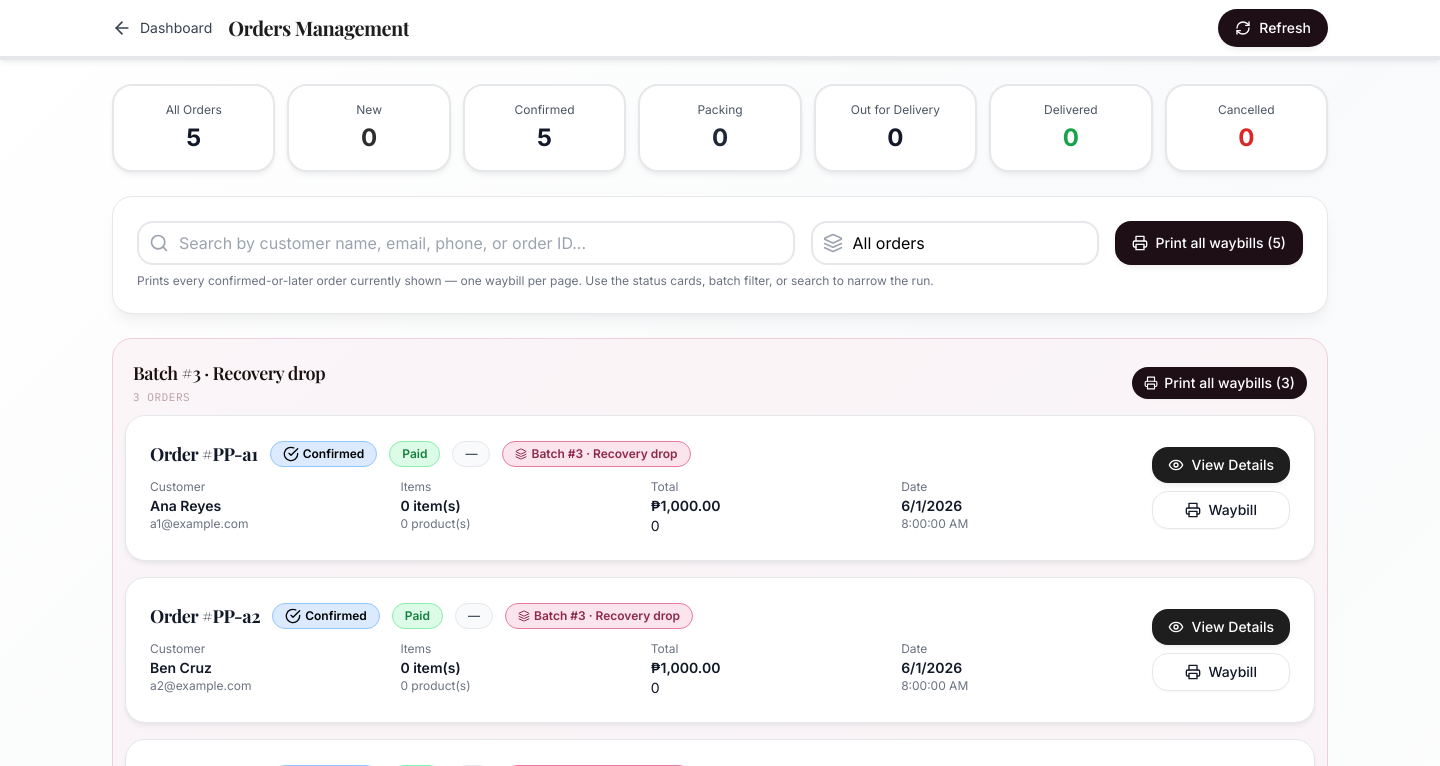
Orders screen — per-batch waybill printing › keeps search narrowing the sections
Type "Dino" into the field with placeholder "Search by customer name, email, phone, or order ID..." at (466, 243), box [137,221,795,265]
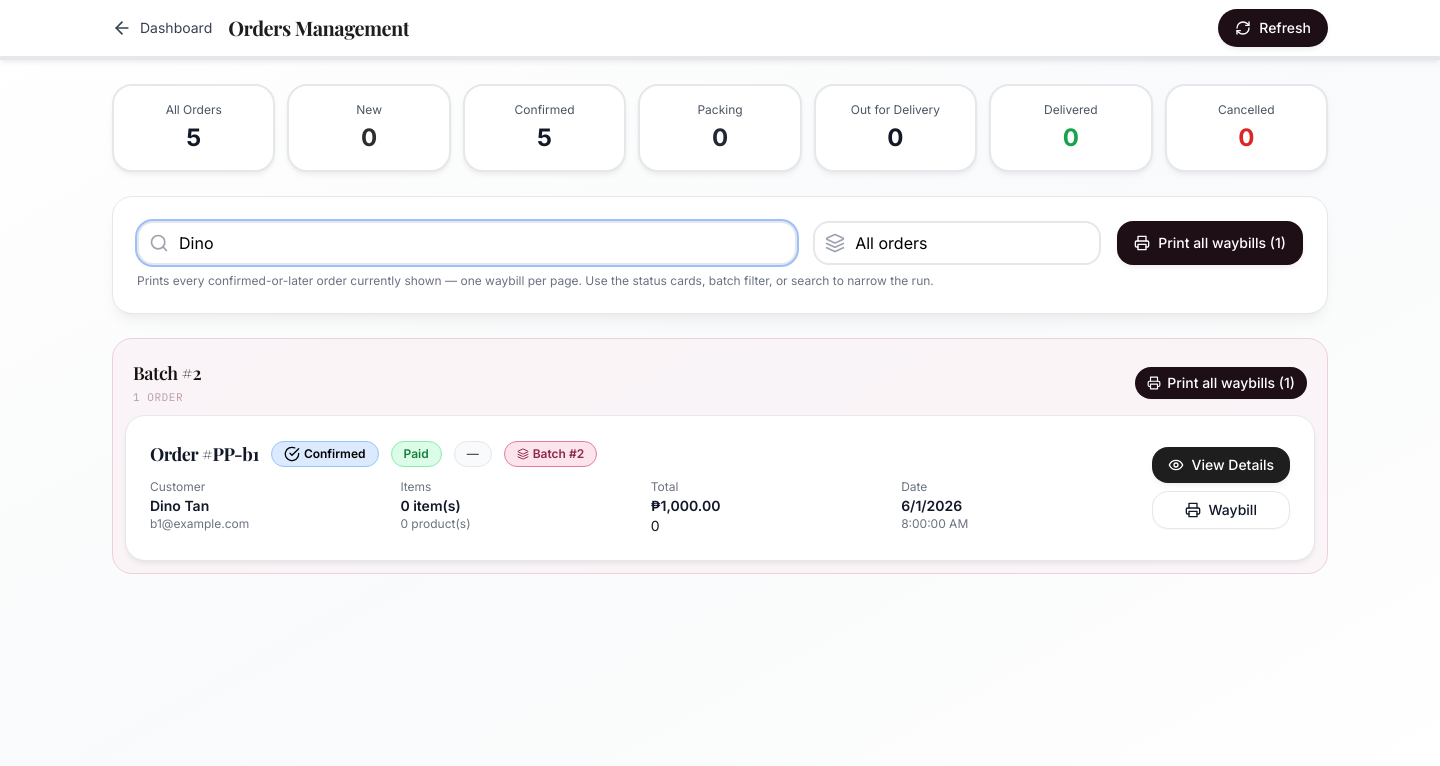
Expected: the 2nd button "Print all waybills (1)" is shown, [1135,367,1307,399]
Result: the heading "Batch #3 · Recovery drop" is gone
